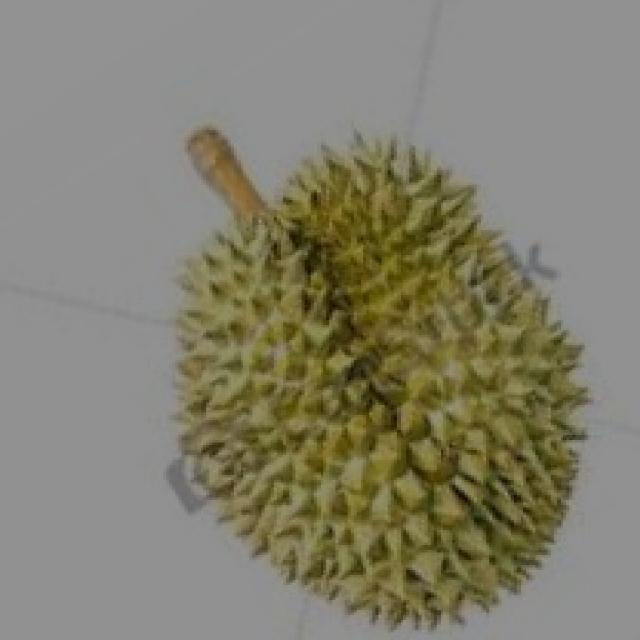fruit: (261, 230, 634, 638)
